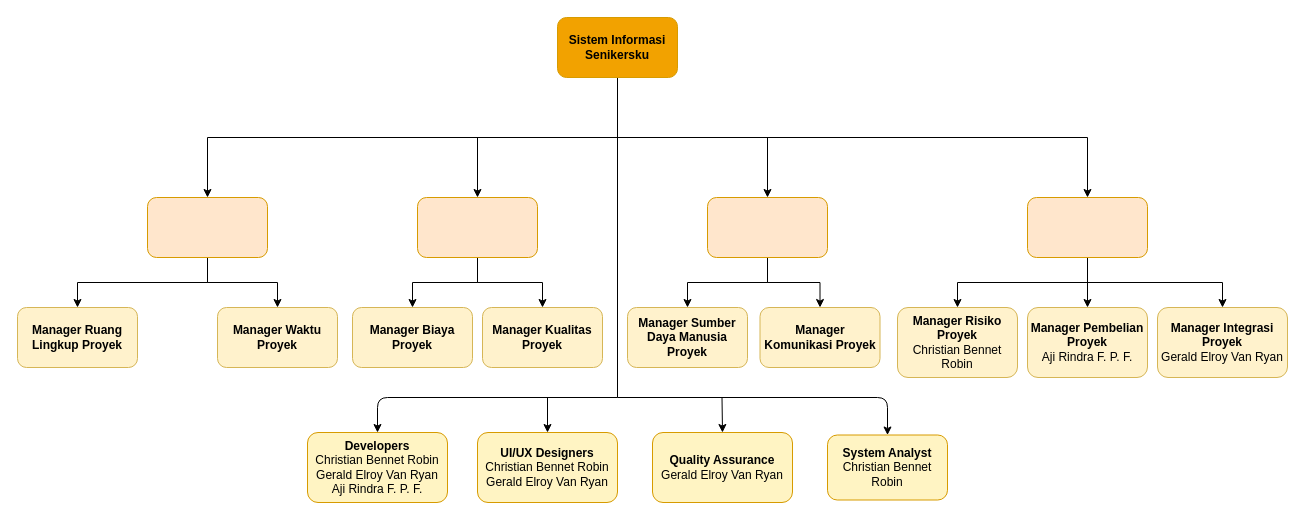
Image size: 1305x520. Some labels were removed from this diagram. Each missing label, with the box of its shape:
Project Manager 1 Aji Rindra F. P. F.: (146, 196, 268, 258)
Project Manager 2 Christian Bennet Robin: (416, 196, 538, 258)
Project Manager 3 Gerald Elroy Van Ryan: (706, 196, 828, 258)
Project Manager 4: (1026, 196, 1148, 258)
